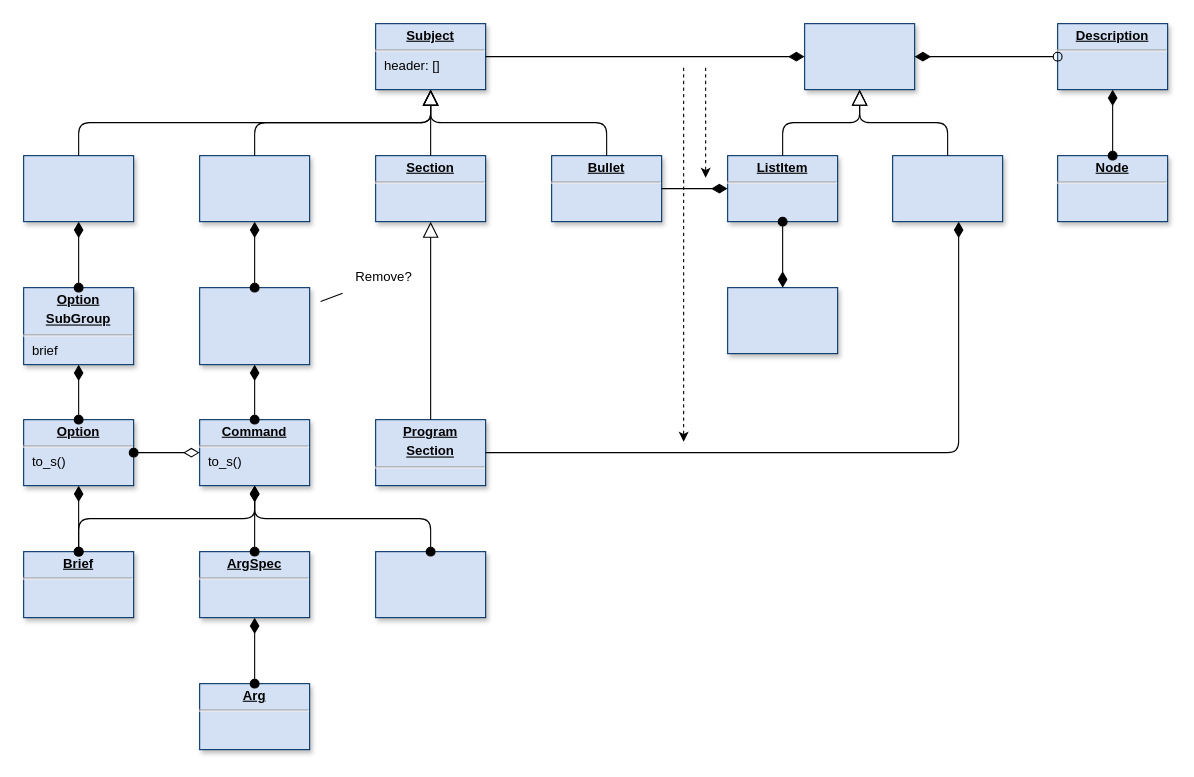
Image size: 1194x777. Some labels were removed from this diagram. Here are the shapes that lost their labels. From the top down, the centre of each, then its label:
At pixel 860 57: "Definition".
At pixel 79 189: "OptionGroup".
At pixel 255 189: "CommandGroup".
At pixel 948 189: "Program".
At pixel 255 327: "Command SubGroup brief".
At pixel 783 321: "List bullet".
At pixel 431 585: "ArgDescr".
